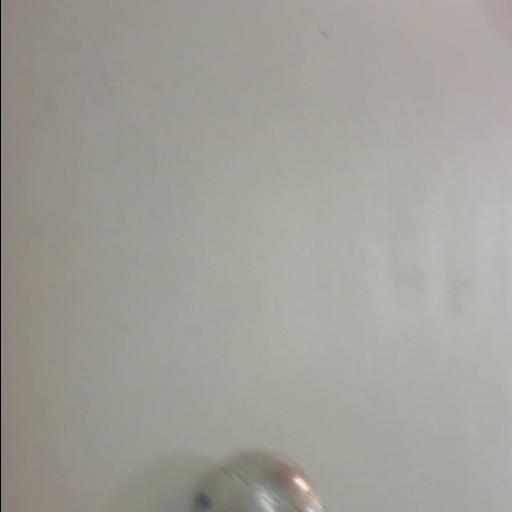alive: (198, 447, 328, 512)
